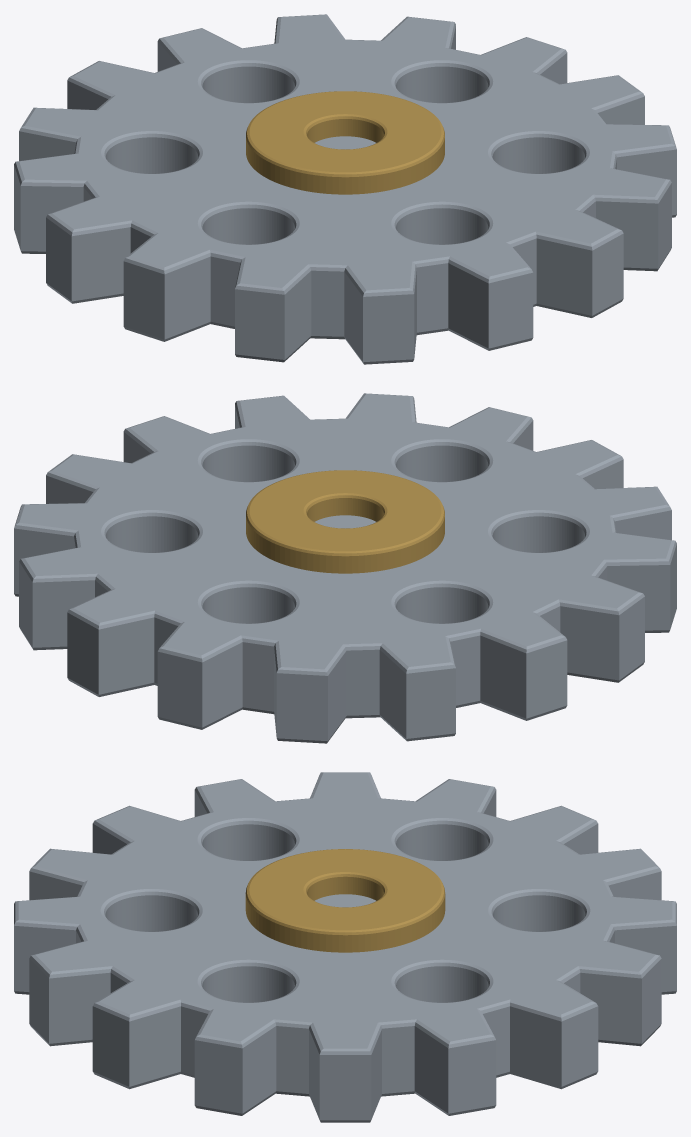
File: gear.glb
The picture shows the model from 3 angles, top to bottom: view 1: azimuth 30°, elevation 25°; view 2: azimuth 150°, elevation 25°; view 3: azimuth 270°, elevation 25°; orthographic projection.
Parts seen in each view (by area): view 1: gear_body, hub; view 2: gear_body, hub; view 3: gear_body, hub.
Part boxes in pixels (left/top/right/bottom): gear_body: left=14, top=14, right=676, bottom=364; hub: left=246, top=91, right=444, bottom=194; gear_body: left=14, top=393, right=676, bottom=743; hub: left=246, top=470, right=444, bottom=573; gear_body: left=14, top=772, right=676, bottom=1122; hub: left=245, top=849, right=445, bottom=952.
Bounding box in the file's own units: 1.1 × 0.212 × 1.1.
